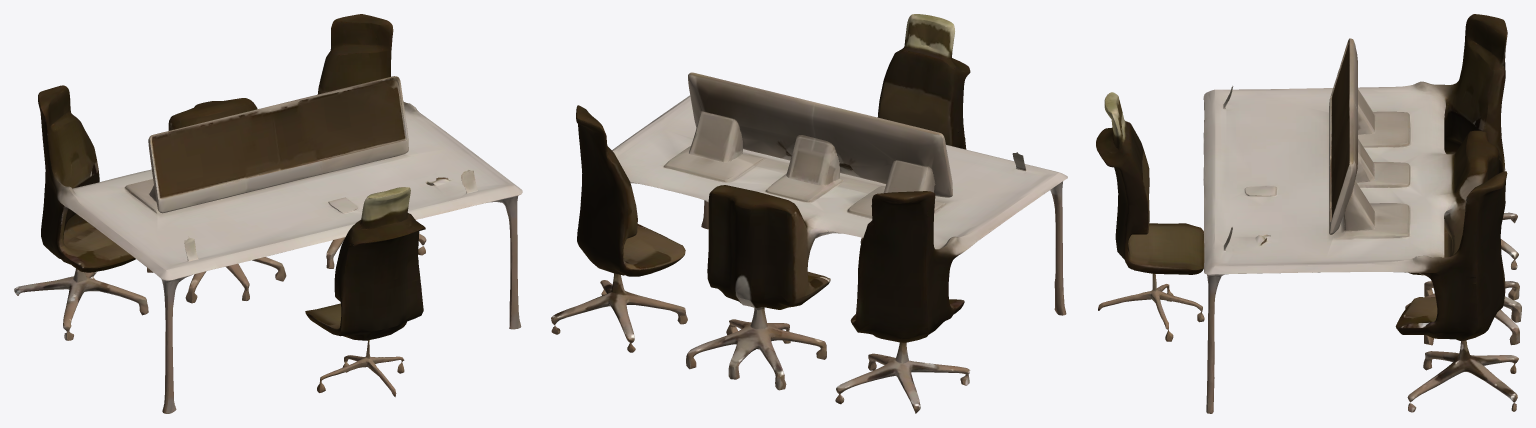
The model's file is office_suite.glb.
3 views of the same model, side by side, from view 1: azimuth 30°, elevation 25°; view 2: azimuth 150°, elevation 25°; view 3: azimuth 270°, elevation 25° (orthographic). The views are drawn at different scales.
Parts seen in each view (by area): view 1: model; view 2: model; view 3: model.
Part boxes in pixels (x1=…): model: x1=14, y1=14, x2=522, y2=413; model: x1=551, y1=14, x2=1067, y2=413; model: x1=1096, y1=14, x2=1521, y2=413.
Size of the model in its own units: 1.9 by 1.08 by 1.86.
1 material, 1 textured.
